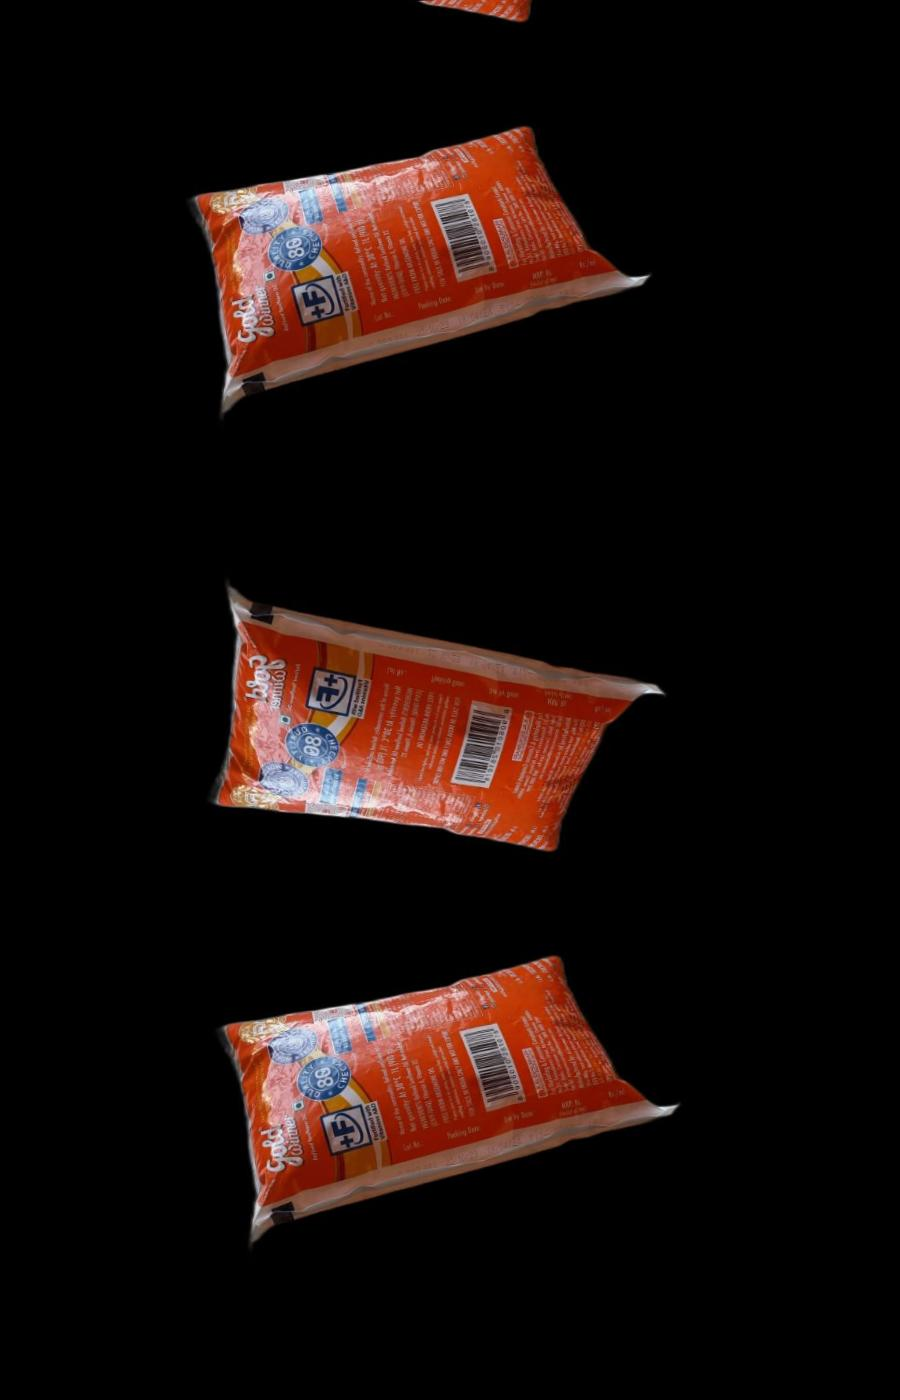Gold Oil: (199, 580, 661, 871), (211, 946, 673, 1238), (183, 115, 645, 407)
